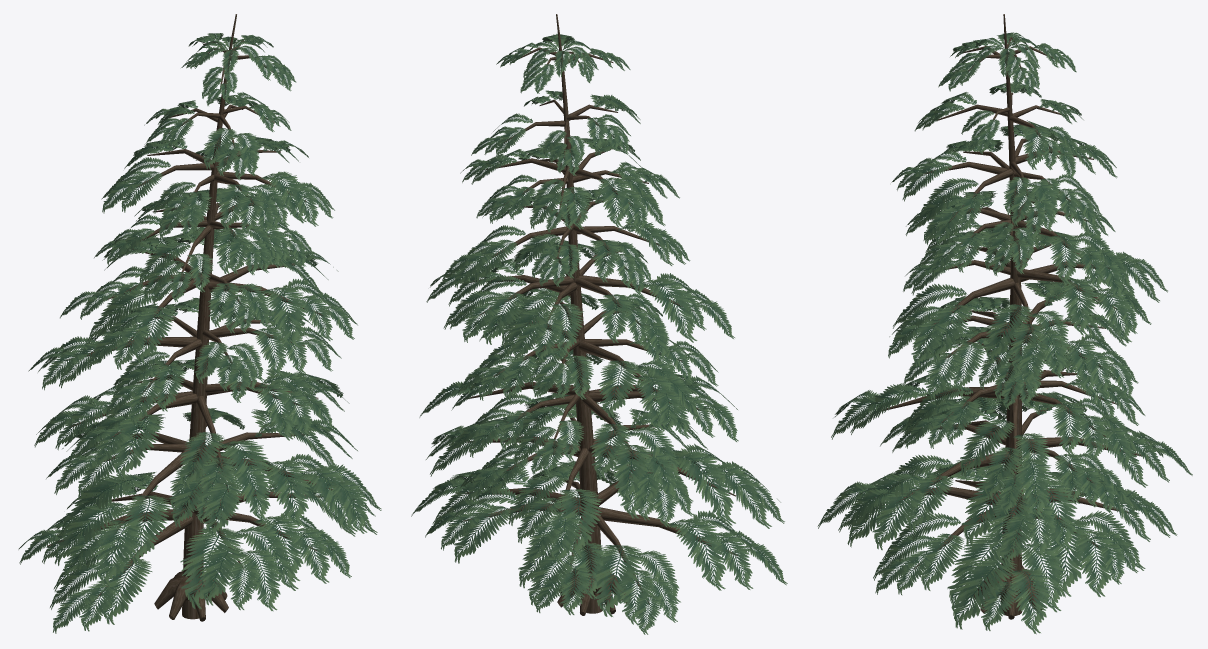
Rendered from alpine_pine_mid.glb.
3 views of the same model, side by side, from view 1: azimuth 30°, elevation 25°; view 2: azimuth 150°, elevation 25°; view 3: azimuth 270°, elevation 25° (orthographic). The views are drawn at different scales.
Parts seen in each view (by area): view 1: alpine_pine_mid; view 2: alpine_pine_mid; view 3: alpine_pine_mid.
Boxes of the visible parts, box(x1,y1,x2,y2) form: alpine_pine_mid: box(18, 14, 381, 633); alpine_pine_mid: box(411, 14, 787, 634); alpine_pine_mid: box(817, 14, 1192, 634).
Bounding box in the file's own units: 4.6 × 7.6 × 4.2.
Materials: 2 (2 with a texture image).
